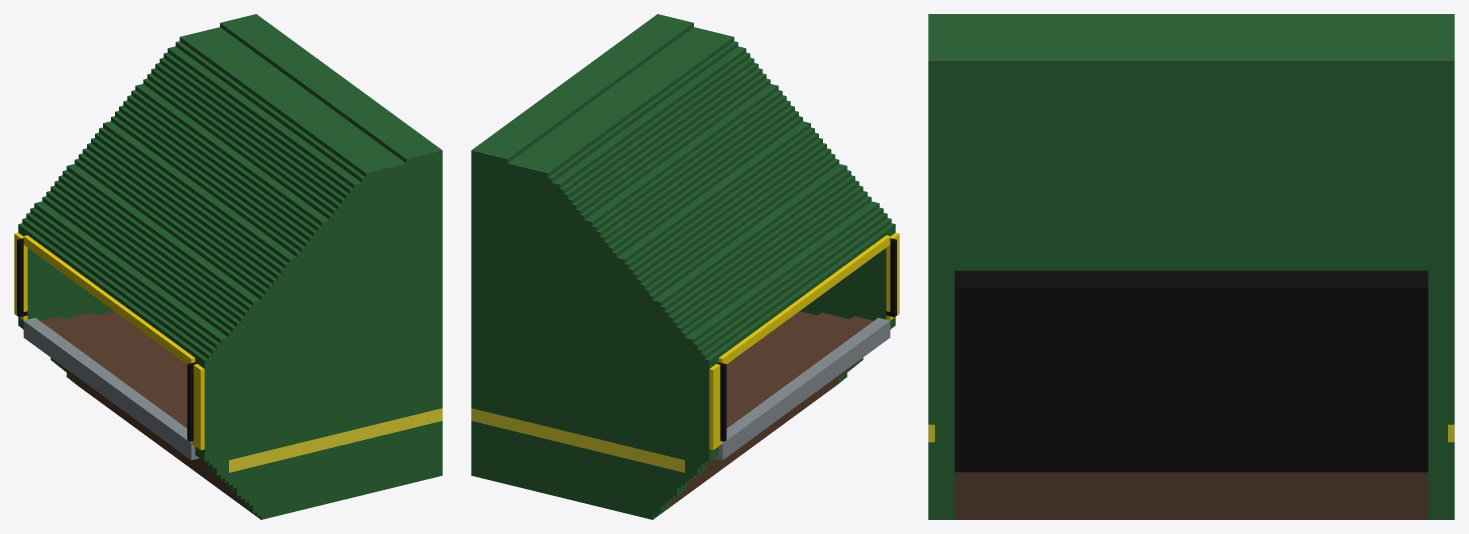
The model's file is refuse_truck_hopper.glb.
3 views of the same model, side by side, from view 1: azimuth 30°, elevation 25°; view 2: azimuth 150°, elevation 25°; view 3: azimuth 270°, elevation 25° (orthographic). The views are drawn at different scales.
Parts seen in each view (by area): view 1: body:compound; view 2: body:compound; view 3: body:compound.
Boxes of the visible parts, <box> form: body:compound: <box>14,14,442,519</box>; body:compound: <box>471,14,899,519</box>; body:compound: <box>928,14,1454,519</box>.
Bounding box in the file's own units: 1.91 × 2.41 × 2.5.
